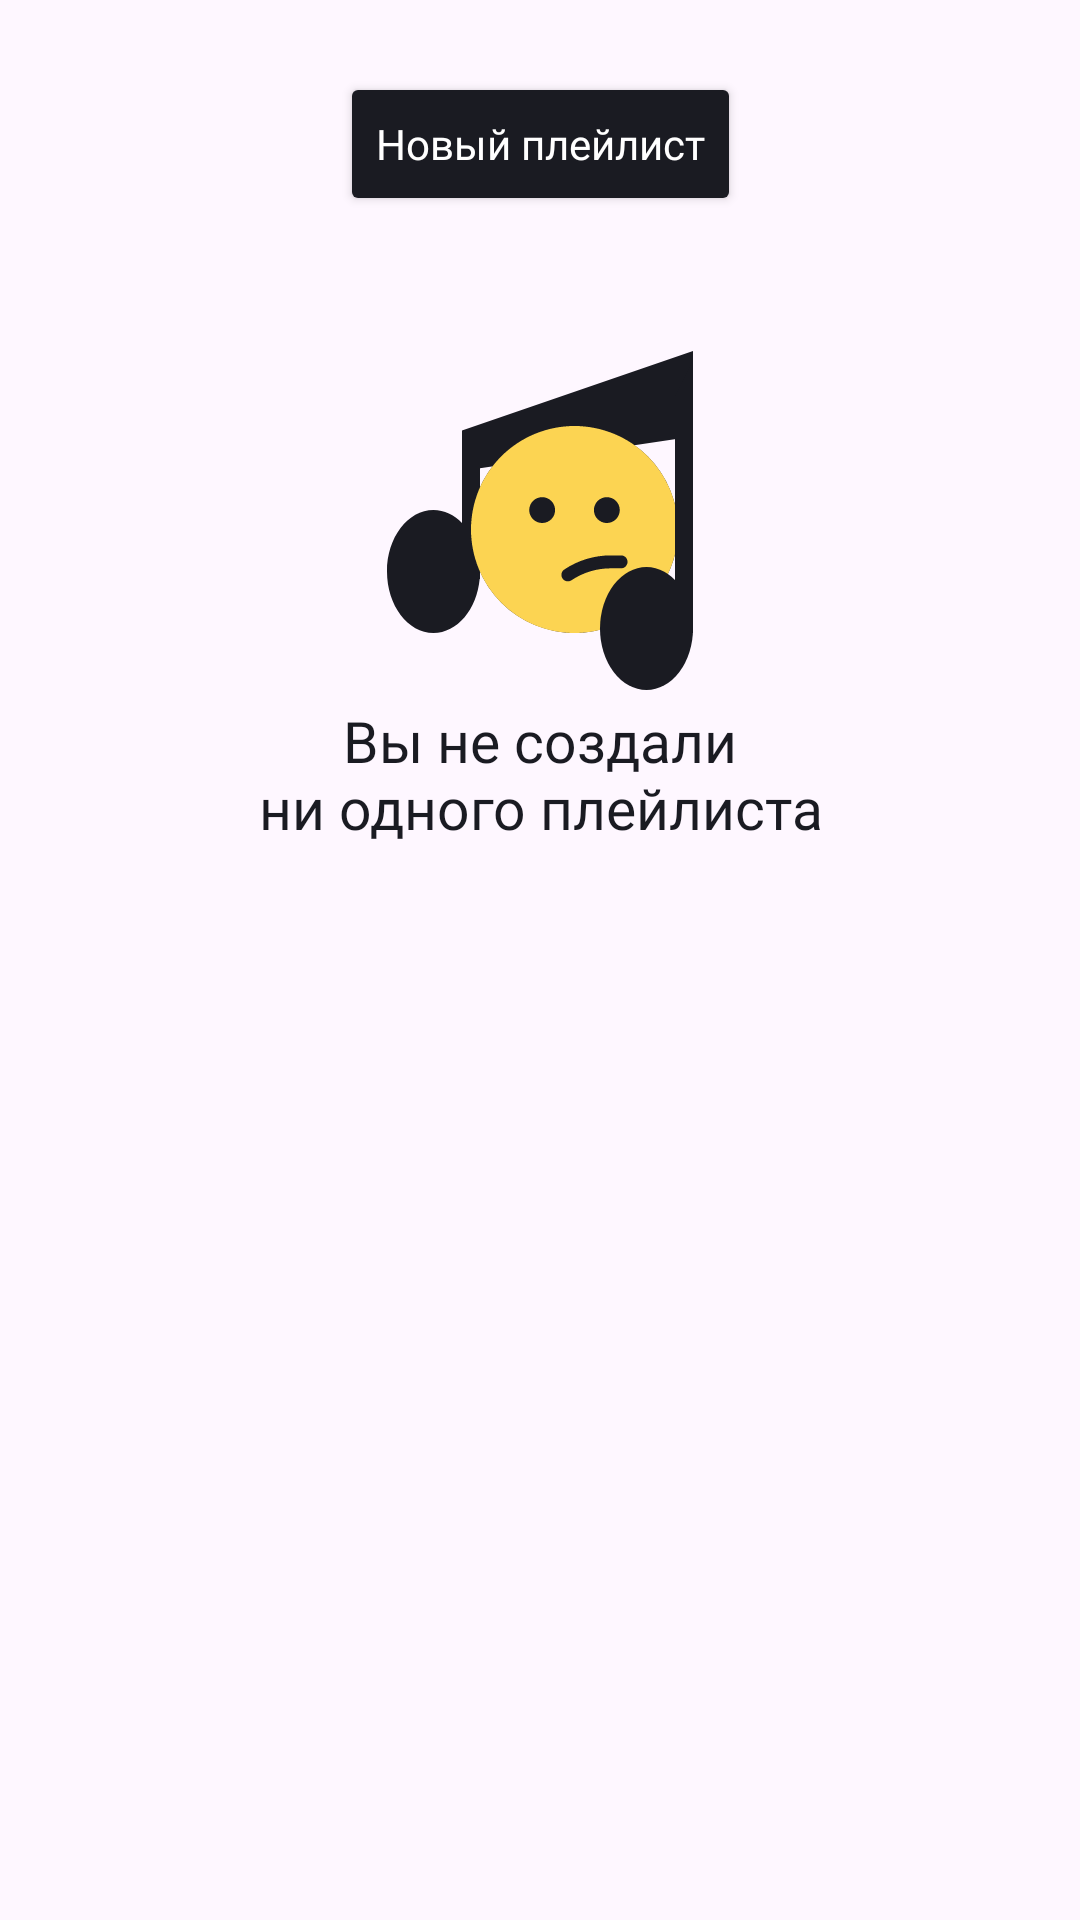

Named icons in this screenshot (1080x1920) and their centers, point (x, y):
error empty: point (540, 520)
